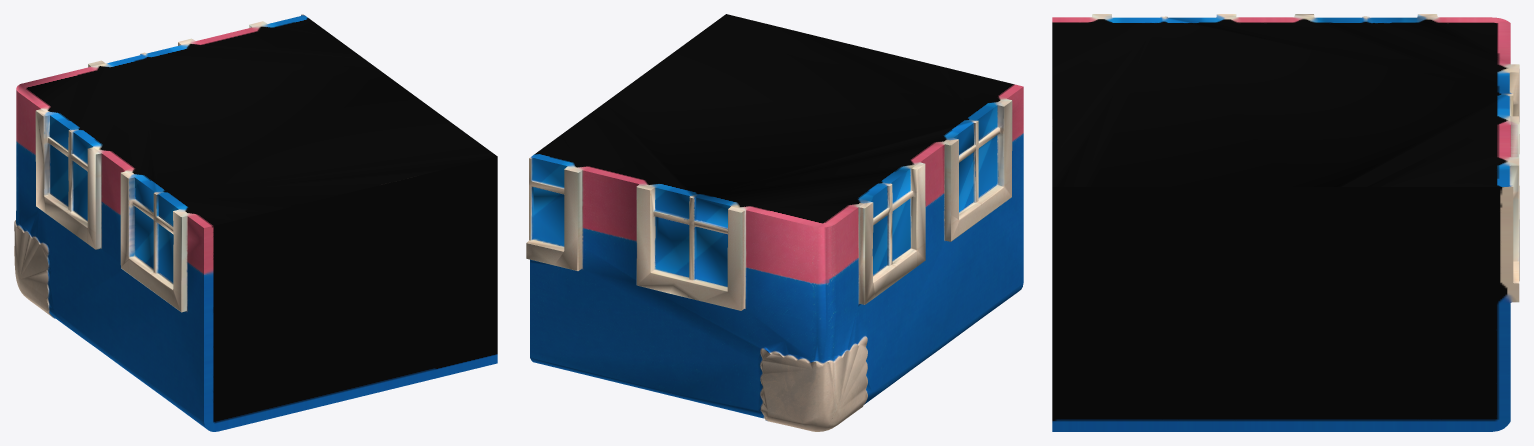
File: 3-ground-floor-back-left.fbx
3 views of the same model, side by side, from view 1: azimuth 30°, elevation 25°; view 2: azimuth 150°, elevation 25°; view 3: azimuth 270°, elevation 25° (orthographic). The views are drawn at different scales.
Visible parts, largest first — view 1: ground-floor-back-left; view 2: ground-floor-back-left; view 3: ground-floor-back-left.
Part boxes in pixels (left/top/right/bottom): ground-floor-back-left: left=14, top=14, right=497, bottom=431; ground-floor-back-left: left=526, top=14, right=1023, bottom=431; ground-floor-back-left: left=1052, top=14, right=1519, bottom=431.
Bounding box in the file's own units: 4818 × 3201 × 5497.
1 material, 1 textured.
